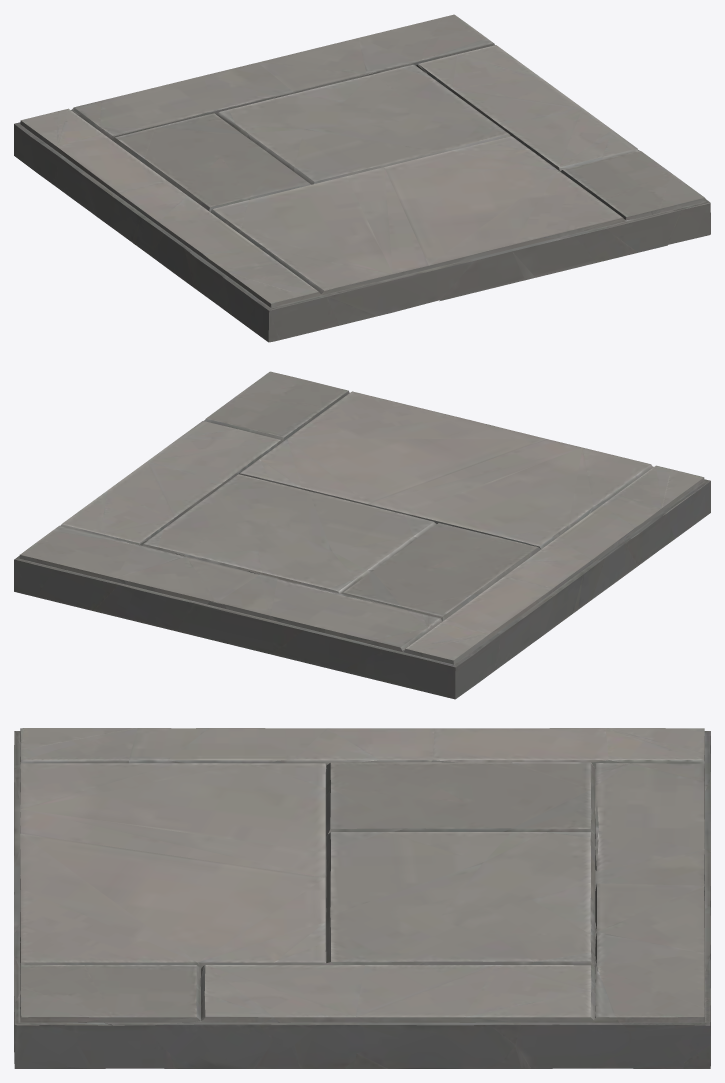
File: stonePaver.glb
3 views of the same model, one above another, from view 1: azimuth 30°, elevation 25°; view 2: azimuth 150°, elevation 25°; view 3: azimuth 270°, elevation 25° (orthographic). The views are drawn at different scales.
Parts seen in each view (by area): view 1: Mesh_0; view 2: Mesh_0; view 3: Mesh_0.
Part boxes in pixels (<box>): Mesh_0: <box>14,14,710,342</box>; Mesh_0: <box>14,371,710,699</box>; Mesh_0: <box>14,728,710,1068</box>.
Size of the model in its own units: 1 by 0.08 by 1.
Materials: 1 (1 with a texture image).
